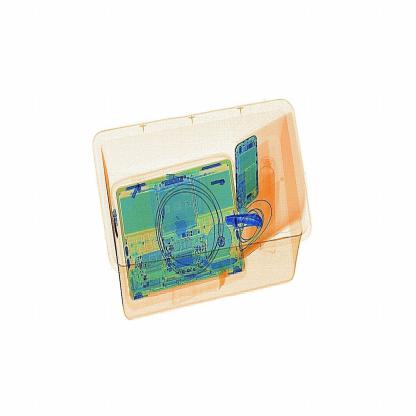knife: (227, 206, 272, 238)
